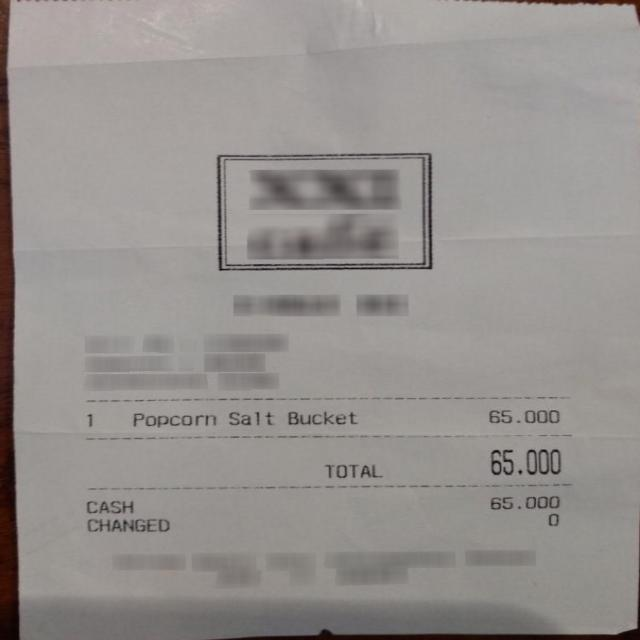text: (490, 446, 560, 474), (131, 412, 212, 426), (85, 518, 167, 530), (286, 410, 356, 424), (487, 408, 557, 421), (488, 496, 556, 508), (85, 500, 133, 515), (324, 464, 380, 476), (228, 410, 272, 424), (546, 511, 560, 528), (86, 410, 97, 428)
